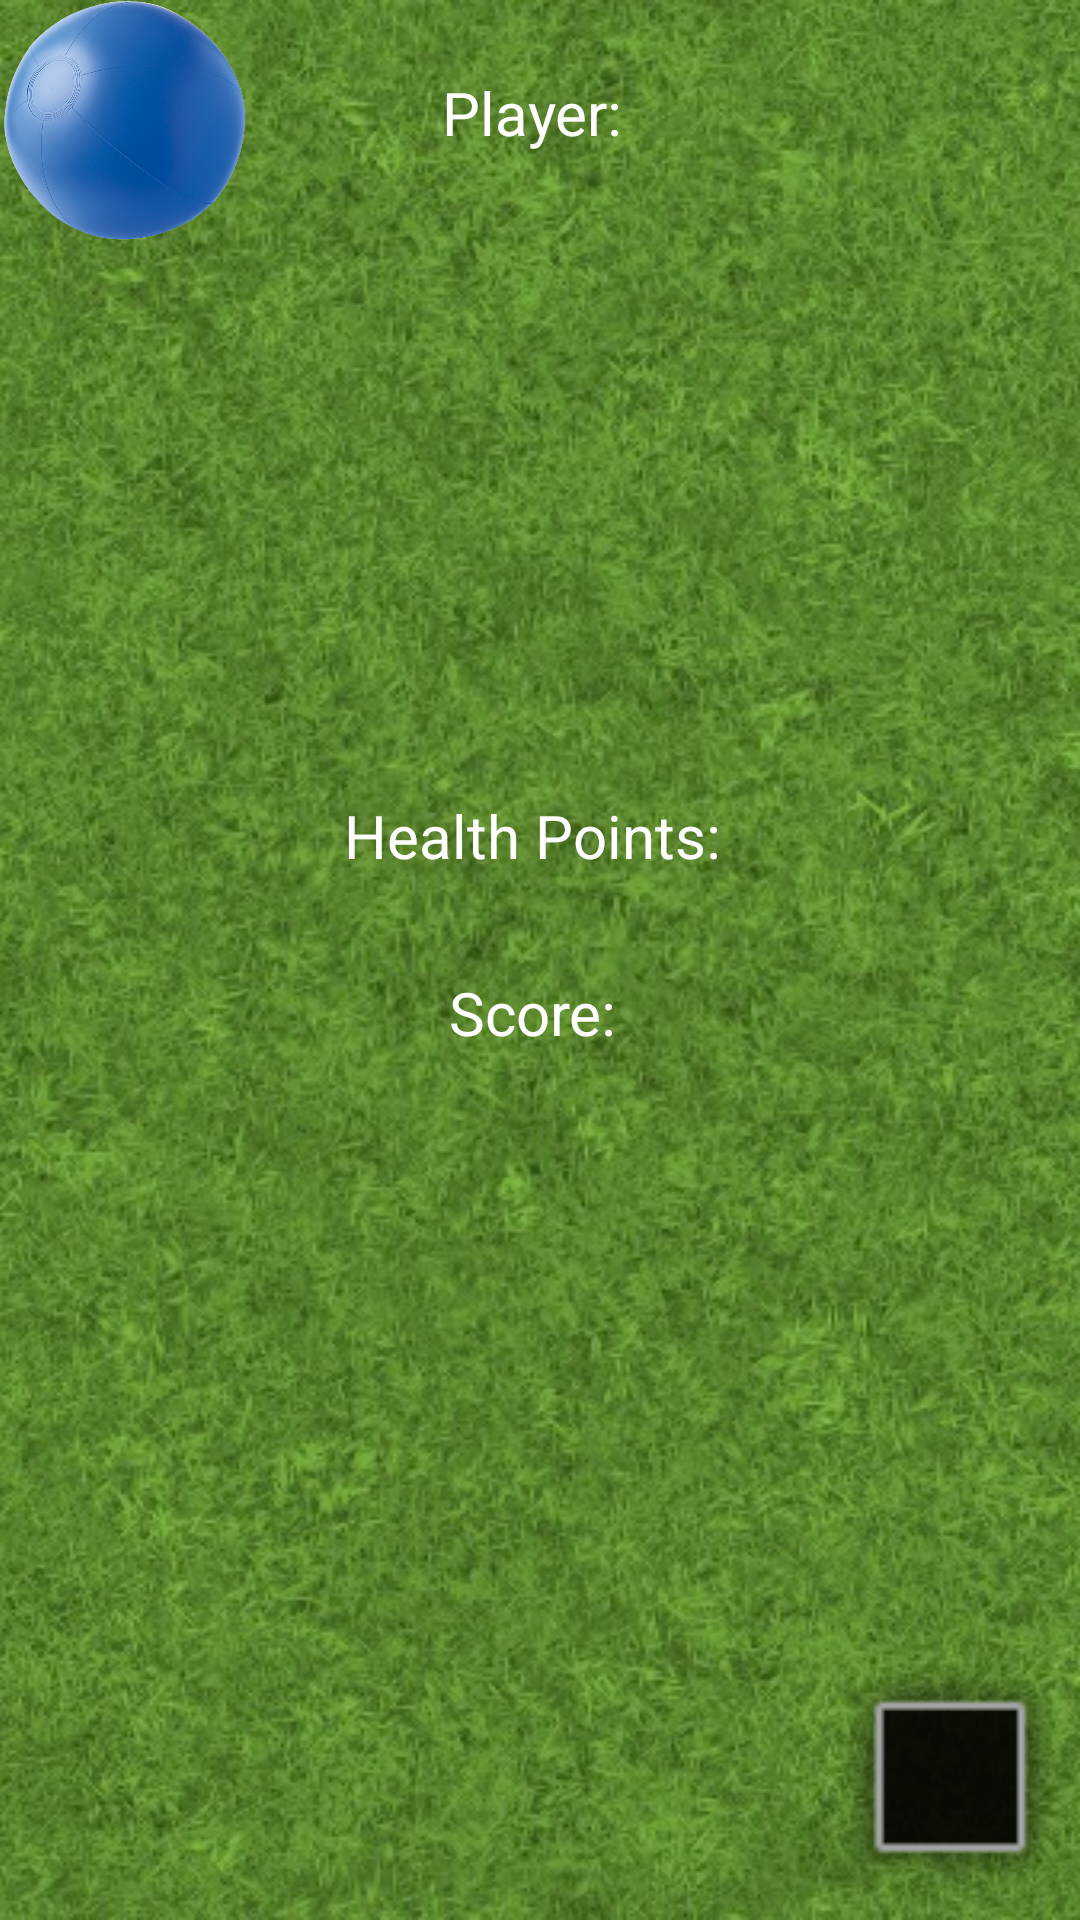

Named icons in this screenshot (1080px×1920px) and their centers, point (x, y):
pngfind beachball: point (124, 120)
